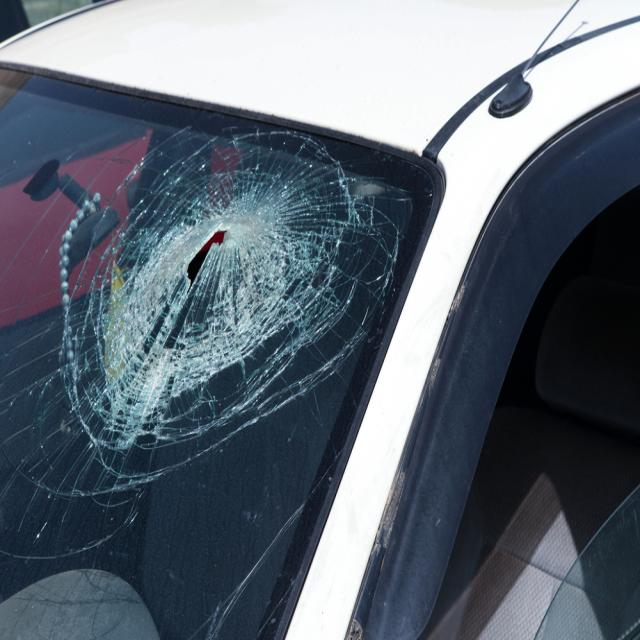glass shatter: (0, 66, 435, 640)
